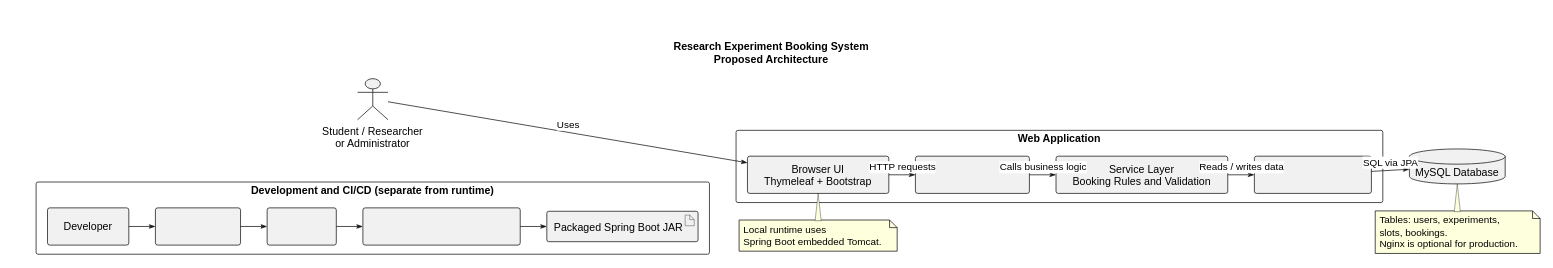
The diagram is 1553 pixels wide and 268 high, and some of its shapes have lost their labels. Each missing label, with the centre of its shape:
Controller Layer Spring Boot MVC: (972,174)
Git / GitHub: (198,226)
Jenkins: (301,226)
Maven Build + JUnit Tests: (441,226)
Repository Layer Spring Data JPA: (1312,174)
